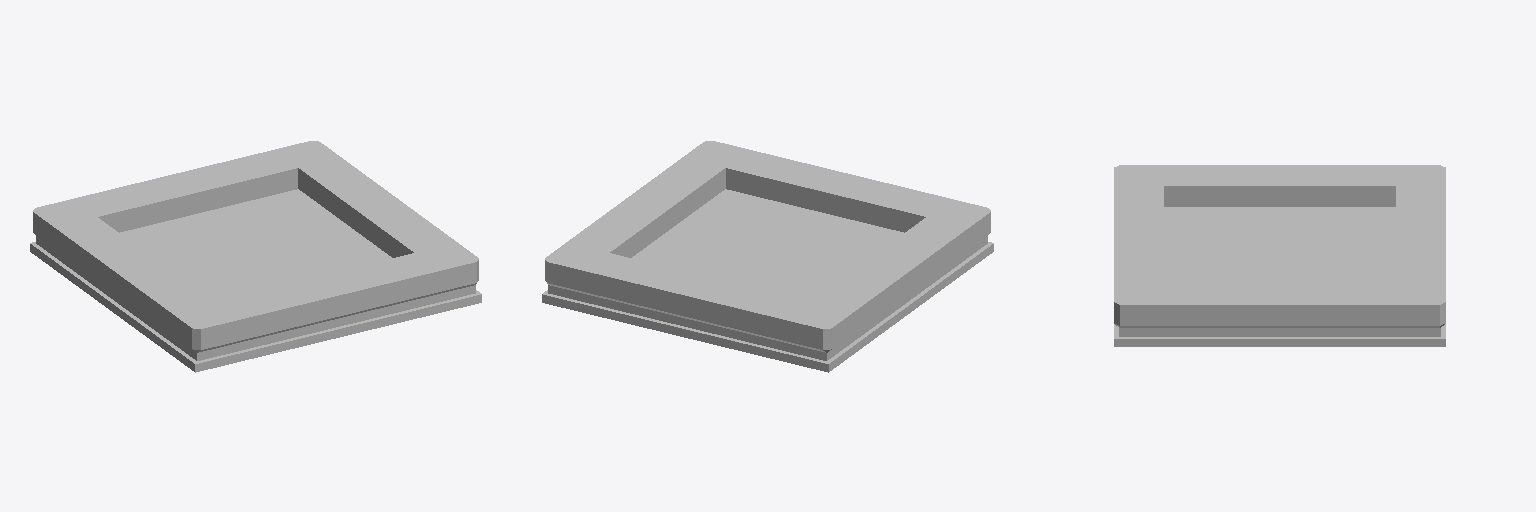
File: fountainSquare.obj
3 renders of one model, left to right at view 1: azimuth 30°, elevation 25°; view 2: azimuth 150°, elevation 25°; view 3: azimuth 270°, elevation 25°, orthographic.
Parts seen in each view (by area): view 1: fountainSquare; view 2: fountainSquare; view 3: fountainSquare.
Part boxes in pixels (x1,y1,x2,y2): fountainSquare: (30, 141, 481, 372); fountainSquare: (542, 141, 993, 372); fountainSquare: (1114, 165, 1445, 346).
Bounding box in the file's own units: 2 × 0.28 × 2.